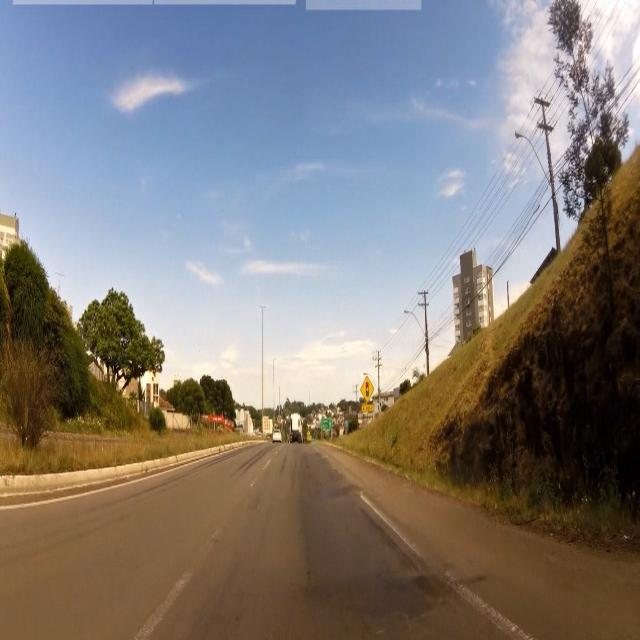A-14: (360, 375, 375, 403)
